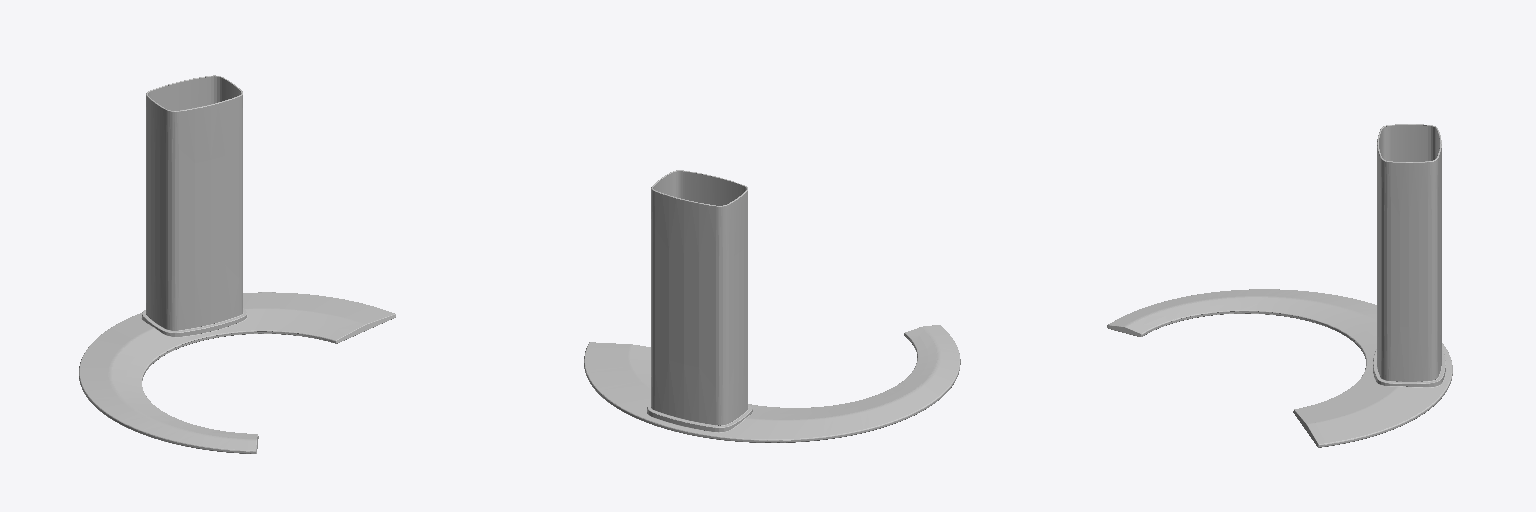
Rendered from LowerBody.obj.
3 renders of one model, left to right at view 1: azimuth 30°, elevation 25°; view 2: azimuth 150°, elevation 25°; view 3: azimuth 270°, elevation 25°, orthographic.
Visible parts, largest first — view 1: object_1; view 2: object_1; view 3: object_1.
Boxes of the visible parts, x1=… form: object_1: x1=79, y1=75, x2=395, y2=453; object_1: x1=584, y1=170, x2=960, y2=442; object_1: x1=1107, y1=124, x2=1452, y2=447.
Size of the model in its own units: 1633 by 1119 by 1531.